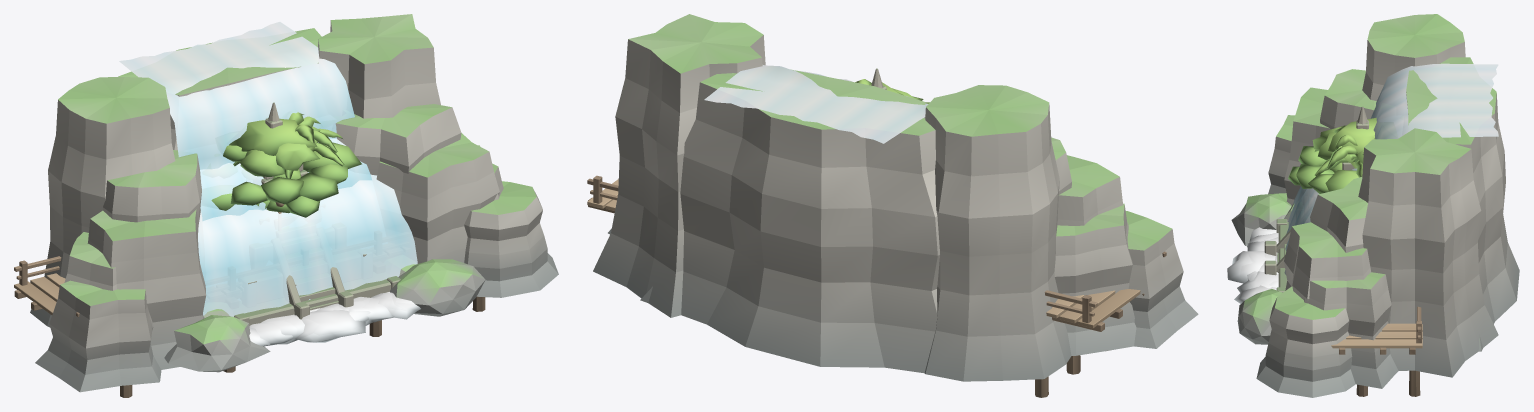
Rendered from frontier-epic-props.glb.
The picture shows the model from 3 angles, left to right: view 1: azimuth 30°, elevation 25°; view 2: azimuth 150°, elevation 25°; view 3: azimuth 270°, elevation 25°; orthographic projection. The views are drawn at different scales.
Parts seen in each view (by area): view 1: CliffRock.001, WaterSheet.001, CliffRock, BanyanCanopy, SplashFoam.001, JungleTemple, WaterSheet, BridgeTimberFrame, PalmFronds, BridgeTimberDeck; view 2: CliffRock.001, CliffRock, WaterSheet.001, BridgeTimberFrame, BridgeTimberDeck; view 3: CliffRock.001, CliffRock, WaterSheet.001, BanyanCanopy, SplashFoam.001, BridgeTimberDeck, JungleTemple, PalmFronds, BridgeTimberFrame.
Boxes of the visible parts, left/top/right/bottom form: CliffRock.001: left=30, top=14, right=558, bottom=392; WaterSheet.001: left=119, top=22, right=417, bottom=316; CliffRock: left=64, top=104, right=503, bottom=318; BanyanCanopy: left=211, top=119, right=361, bottom=217; SplashFoam.001: left=249, top=292, right=420, bottom=346; JungleTemple: left=234, top=102, right=400, bottom=325; WaterSheet: left=200, top=138, right=371, bottom=221; BridgeTimberFrame: left=14, top=256, right=485, bottom=397; PalmFronds: left=233, top=112, right=344, bottom=178; BridgeTimberDeck: left=14, top=273, right=65, bottom=314; CliffRock.001: left=593, top=14, right=1198, bottom=381; CliffRock: left=608, top=137, right=1136, bottom=355; WaterSheet.001: left=704, top=65, right=928, bottom=143; BridgeTimberFrame: left=587, top=175, right=1166, bottom=397; BridgeTimberDeck: left=587, top=179, right=1140, bottom=328; CliffRock.001: left=1231, top=14, right=1519, bottom=397; CliffRock: left=1284, top=69, right=1398, bottom=388; WaterSheet.001: left=1284, top=63, right=1498, bottom=274; BanyanCanopy: left=1288, top=118, right=1376, bottom=193; SplashFoam.001: left=1227, top=227, right=1278, bottom=303; BridgeTimberDeck: left=1331, top=323, right=1422, bottom=348; JungleTemple: left=1264, top=106, right=1368, bottom=292; PalmFronds: left=1314, top=125, right=1375, bottom=177; BridgeTimberFrame: left=1339, top=306, right=1421, bottom=396.
Bounding box in the file's own units: 23.06 × 10.87 × 12.88.
